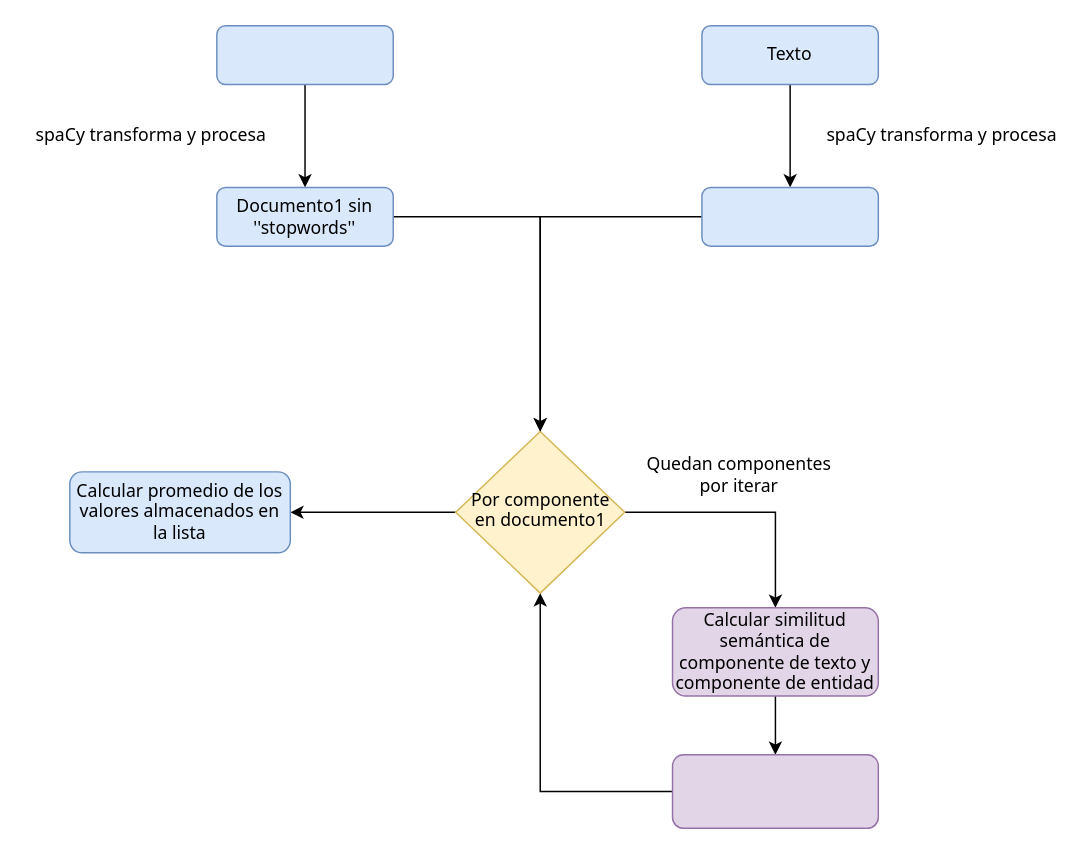
The diagram is 1091 pixels wide and 854 high, and some of its shapes have lost their labels. Here are the shapes that lost their labels. From the top down, the centre of each, then its label:
pixel 304 54: Extracto de entidades
pixel 789 216: Documento2 sin ''stopwords''
pixel 774 790: Se almacenan los valores del cálculo en una lista
